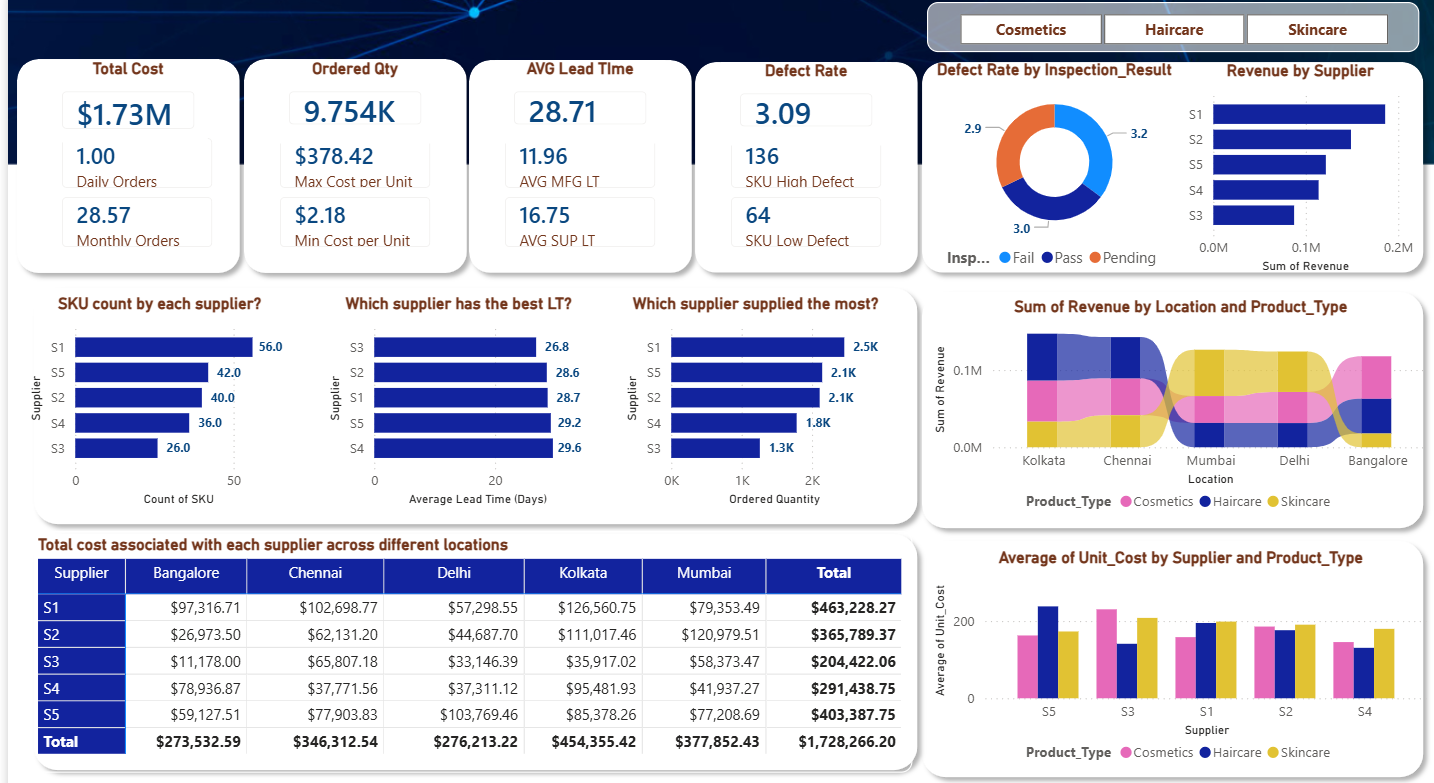

The page's visual inventory and layout, read from the dashboard file:
{"tool":"powerbi","page":{"name":"SCM Dashboard 1 ","canvas":[1280,720],"ordinal":0},"visuals":[{"type":"shape","box":[-1,49,218,210],"z":0},{"type":"cardVisual","fields":{"Data":["M1.Daily Orders","M1.Monthly Orders"]},"box":[31,112,169,132],"z":1000},{"type":"cardVisual","title":"Total Cost","fields":{"Data":["M1.Total Cost"]},"box":[31,59,153,79],"z":2000},{"type":"shape","box":[203,49,218,210],"z":3000},{"type":"cardVisual","fields":{"Data":["M1.Max Cost per Unit","M1.Min Cost per Unit"]},"box":[227,112,169,132],"z":4000},{"type":"cardVisual","title":"Ordered Qty","fields":{"Data":["M1.Ordered Quantity"]},"box":[235,59,153,75],"z":5000},{"type":"shape","box":[405,50,218,209],"z":6000},{"type":"cardVisual","fields":{"Data":["M1.Avg Manufacturing Lead Time","M1.Avg Supplier Lead Time"]},"box":[429,112,169,132],"z":7000},{"type":"cardVisual","title":"AVG Lead TIme","fields":{"Data":["M1.Average Lead Time (Days)"]},"box":[437,59,153,75],"z":8000},{"type":"shape","box":[608,52,218,207],"z":9000},{"type":"cardVisual","fields":{"Data":["M1.SKU High Defect","M1.SKU Low Defect"]},"box":[632,112,169,132],"z":10000},{"type":"cardVisual","title":"Defect Rate","fields":{"Data":["M1.Average Defect Rate"]},"box":[640,61,153,75],"z":11000},{"type":"shape","box":[812,52,468,207],"z":12000},{"type":"clusteredBarChart","title":"Revenue by Supplier","fields":{"Category":["SupplyChainData.Supplier"],"Y":["Sum(SupplyChainData.Revenue)"]},"box":[1053,61,214,194],"z":13000},{"type":"donutChart","title":"Defect Rate by Inspection_Result","fields":{"Category":["SupplyChainData.Inspection_Result"],"Y":["M1.Average Defect Rate"]},"box":[826,60,227,195],"z":14000},{"type":"slicer","fields":{"Values":["SupplyChainData.Product_Type"]},"box":[825,7,442,45],"z":15000},{"type":"shape","box":[14,255,811,230],"z":16000},{"type":"clusteredBarChart","title":"SKU count by each supplier?","fields":{"Category":["SupplyChainData.Supplier"],"Y":["CountNonNull(SupplyChainData.SKU)"]},"box":[14,270,244,194],"z":17000},{"type":"clusteredBarChart","title":"Which supplier has the best LT?","fields":{"Category":["SupplyChainData.Supplier"],"Y":["M1.Average Lead Time (Days)"]},"box":[283,270,244,194],"z":18000},{"type":"clusteredBarChart","title":"Which supplier supplied the most?","fields":{"Category":["SupplyChainData.Supplier"],"Y":["M1.Ordered Quantity"]},"box":[549,270,244,194],"z":19000},{"type":"shape","box":[812,259,468,230],"z":20000},{"type":"shape","box":[812,482,468,230],"z":21000},{"type":"shape","box":[14,476,811,230],"z":22000},{"type":"pivotTable","title":"Total cost associated with each supplier across different locations","fields":{"Rows":["SupplyChainData.Supplier"],"Columns":["SupplyChainData.Location"],"Values":["M1.Total Cost"]},"box":[18,482,794,217],"z":23000},{"type":"ribbonChart","fields":{"Category":["SupplyChainData.Location"],"Y":["Sum(SupplyChainData.Revenue)"],"Series":["SupplyChainData.Product_Type"]},"box":[826,273,454,201],"z":24000},{"type":"clusteredColumnChart","fields":{"Y":["Avg(SupplyChainData.Unit_Cost)"],"Category":["SupplyChainData.Supplier"],"Series":["SupplyChainData.Product_Type"]},"box":[826,498,454,201],"z":25000}]}

Visuals, with their boxes on the page's 1280x720 design canvas (x1, y1, x2, y2). These are canvas units, not pixel positions in the 1434x783 screenshot, which may show the page scaled, cropped or inside an application window:
shape: -1 49 217 259
cardVisual - M1.Daily Orders x M1.Monthly Orders: 31 112 200 244
"Total Cost" cardVisual: 31 59 184 138
shape: 203 49 421 259
cardVisual - M1.Max Cost per Unit x M1.Min Cost per Unit: 227 112 396 244
"Ordered Qty" cardVisual: 235 59 388 134
shape: 405 50 623 259
cardVisual - M1.Avg Manufacturing Lead Time x M1.Avg Supplier Lead Time: 429 112 598 244
"AVG Lead TIme" cardVisual: 437 59 590 134
shape: 608 52 826 259
cardVisual - M1.SKU High Defect x M1.SKU Low Defect: 632 112 801 244
"Defect Rate" cardVisual: 640 61 793 136
shape: 812 52 1280 259
"Revenue by Supplier" clusteredBarChart: 1053 61 1267 255
"Defect Rate by Inspection_Result" donutChart: 826 60 1053 255
slicer - SupplyChainData.Product_Type: 825 7 1267 52
shape: 14 255 825 485
"SKU count by each supplier?" clusteredBarChart: 14 270 258 464
"Which supplier has the best LT?" clusteredBarChart: 283 270 527 464
"Which supplier supplied the most?" clusteredBarChart: 549 270 793 464
shape: 812 259 1280 489
shape: 812 482 1280 712
shape: 14 476 825 706
"Total cost associated with each supplier across different locations" pivotTable: 18 482 812 699
ribbonChart - SupplyChainData.Location x Sum(SupplyChainData.Revenue): 826 273 1280 474
clusteredColumnChart - Avg(SupplyChainData.Unit_Cost) x SupplyChainData.Supplier: 826 498 1280 699
